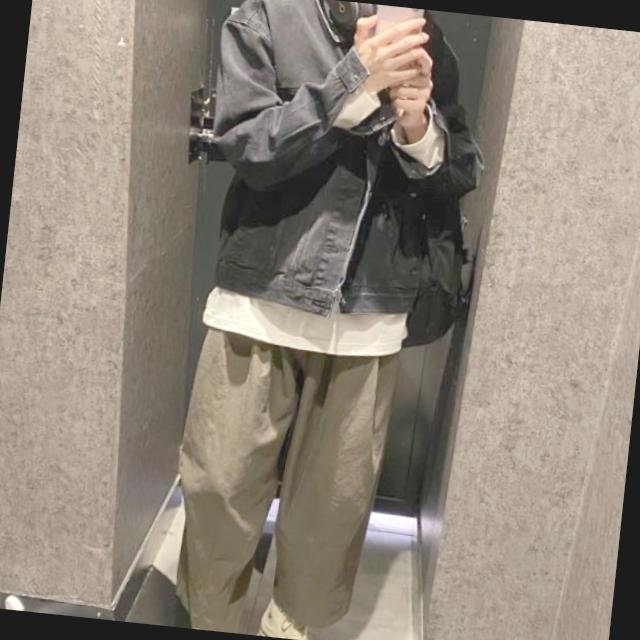cottonpants: (163, 318, 405, 640)
jacket: (188, 0, 494, 325)
